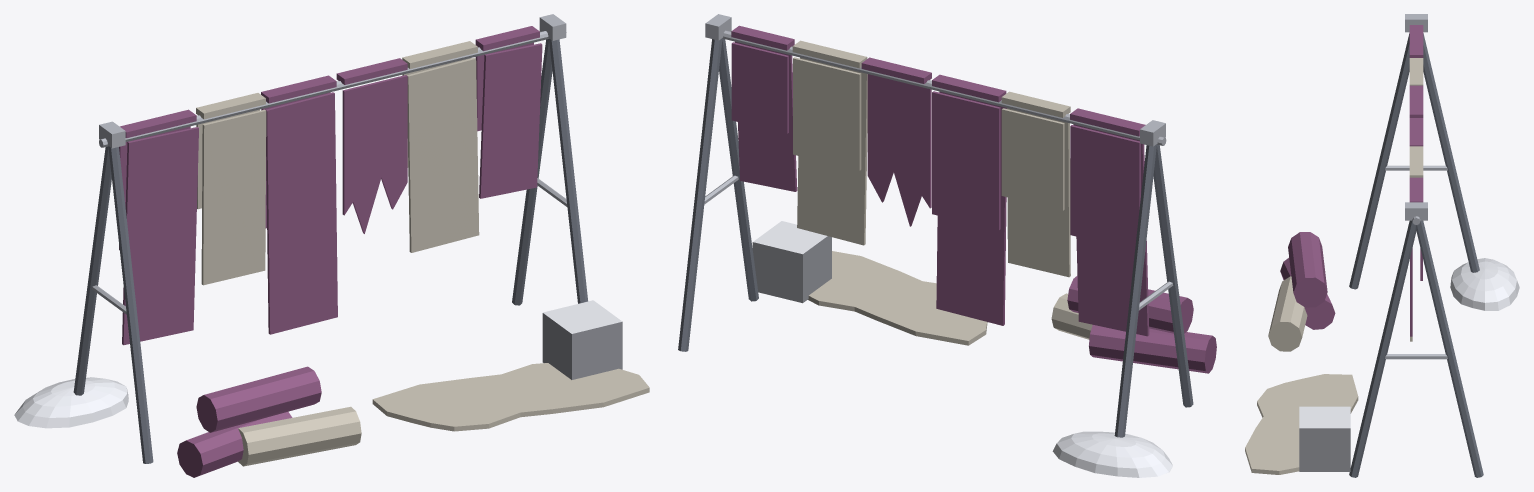
The model's file is PR_Varal_Tecidos.fbx.
3 views of the same model, side by side, from view 1: azimuth 30°, elevation 25°; view 2: azimuth 150°, elevation 25°; view 3: azimuth 270°, elevation 25° (orthographic). The views are drawn at different scales.
Visible parts, largest first — view 1: PR_Varal_Tecidos; view 2: PR_Varal_Tecidos; view 3: PR_Varal_Tecidos.
Boxes of the visible parts, left/top/right/bottom form: PR_Varal_Tecidos: left=14, top=14, right=649, bottom=477; PR_Varal_Tecidos: left=678, top=14, right=1216, bottom=477; PR_Varal_Tecidos: left=1245, top=14, right=1519, bottom=477.
Bounding box in the file's own units: 4.49 × 2.62 × 2.4.
